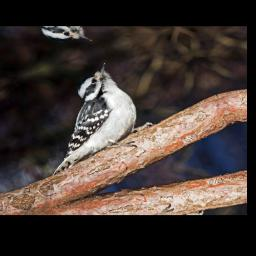Woodpecker: (5, 56, 166, 176)
